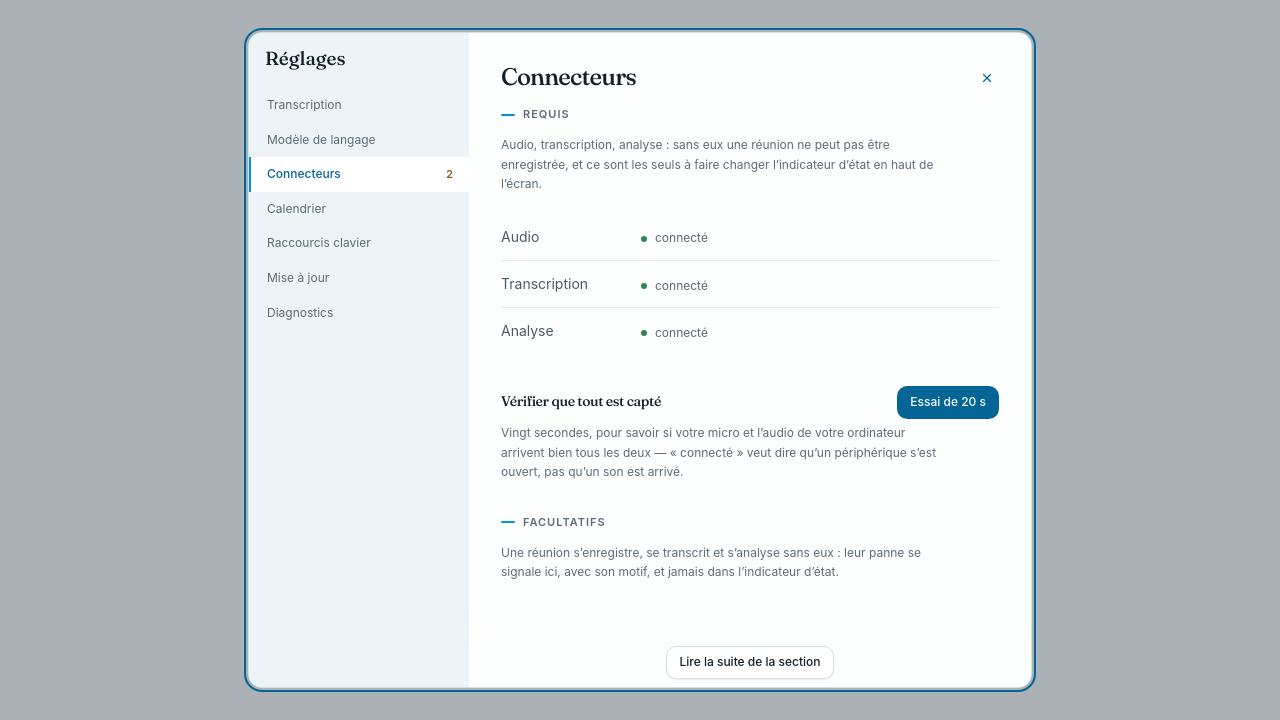
Test case: two panes: the section list left, its content right (VISION.md §6) › choosing a section swaps the right pane, and nothing overlays the pane (HR-10)
Step 1. Click the button "Diagnostics" → {"x": 359, "y": 313}, box top-left (249, 296), bottom-right (469, 330)
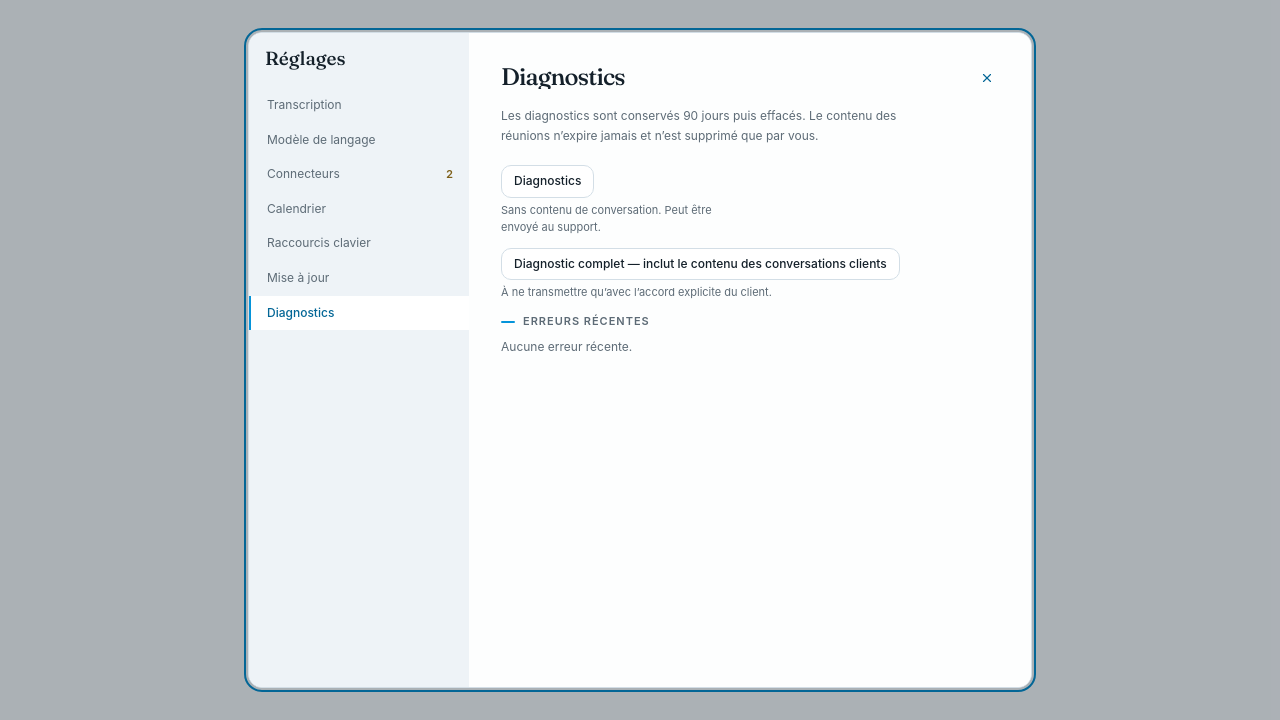
Check: the number of dialogs is 1, box top-left (248, 32), bottom-right (1032, 688)
Check: the text "conservés 90 jours" is shown, box top-left (501, 106), bottom-right (940, 145)
Check: the heading "Facultatifs" is gone
